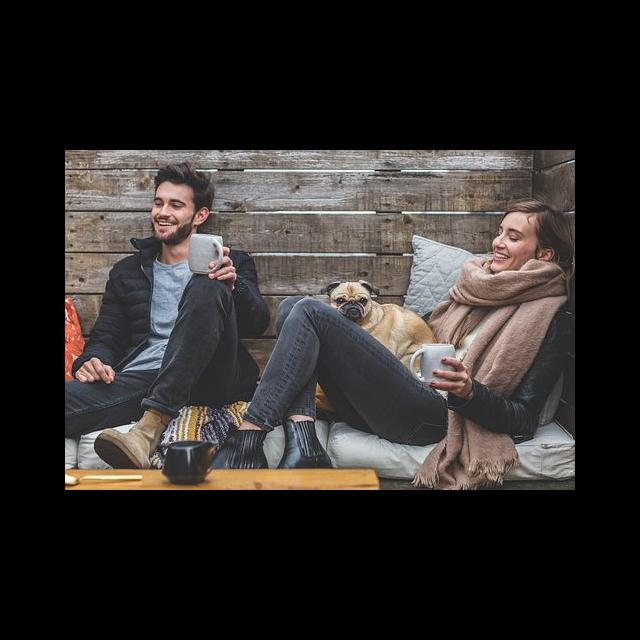female: (484, 193, 564, 304)
male: (109, 161, 234, 242)
